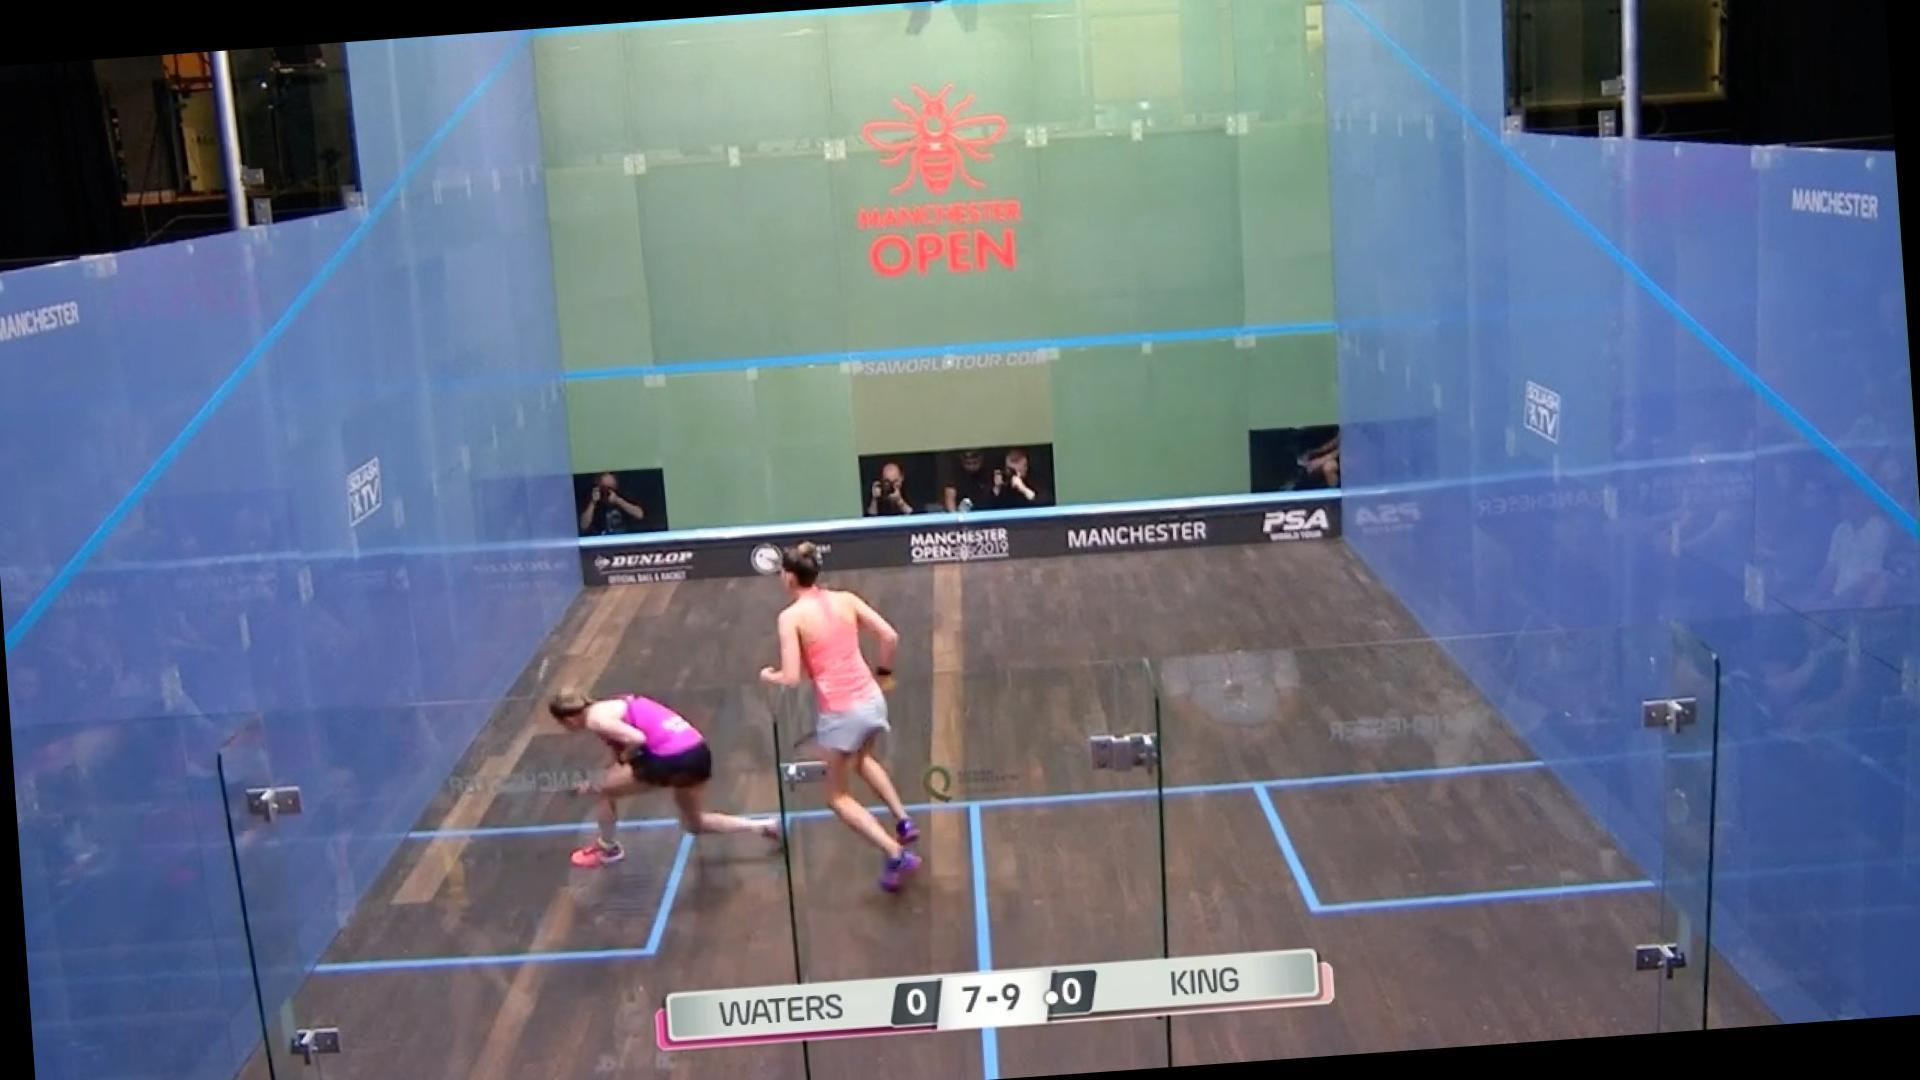Squash-Ball: (526, 633, 568, 705)
